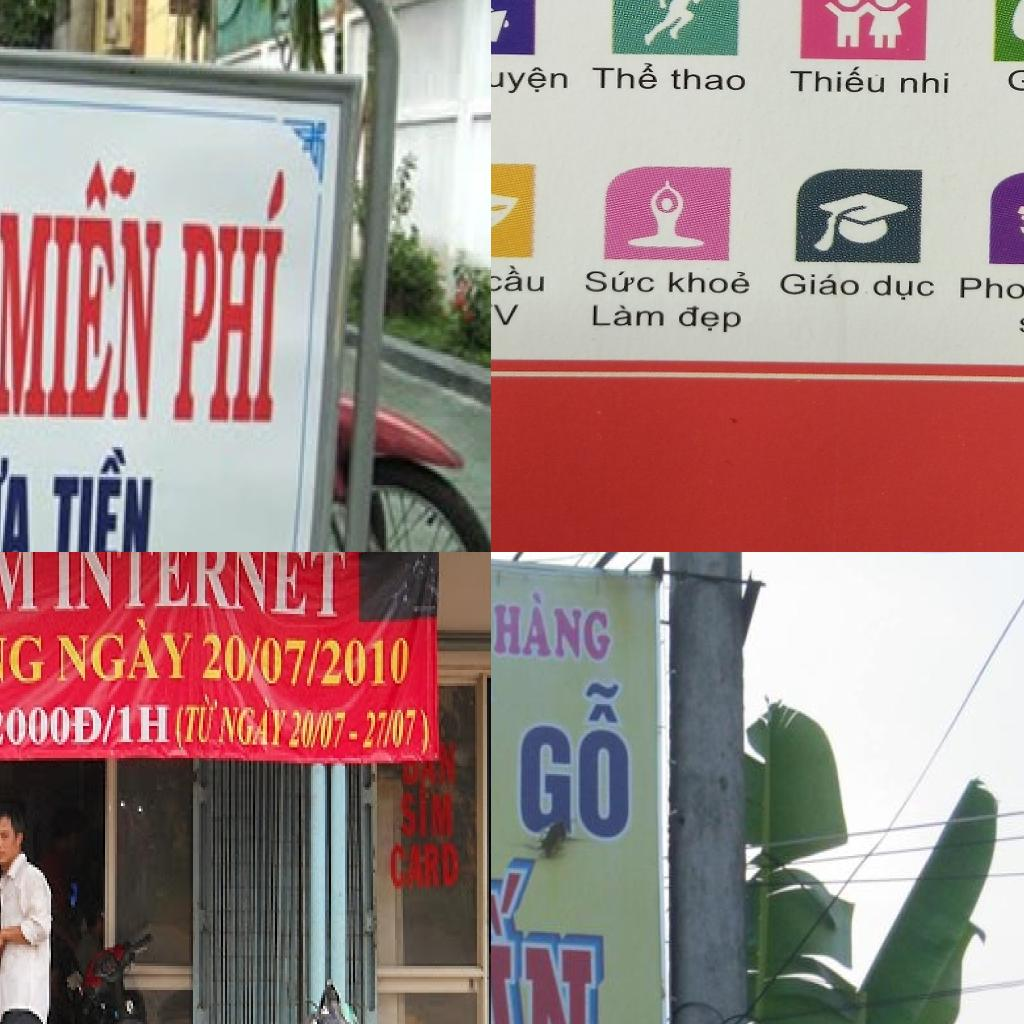text: (0, 147, 171, 430), (171, 161, 296, 431), (491, 852, 618, 1024), (53, 552, 349, 624), (516, 677, 636, 844), (201, 630, 411, 691), (48, 441, 160, 552), (491, 584, 613, 664), (55, 617, 199, 683), (0, 704, 107, 750), (786, 60, 893, 100), (217, 697, 293, 750), (359, 707, 431, 758), (772, 267, 866, 306), (389, 844, 463, 892), (0, 458, 35, 552), (670, 302, 757, 339), (491, 60, 573, 99), (399, 787, 457, 841), (664, 263, 756, 295), (287, 707, 351, 753), (175, 691, 221, 753), (953, 268, 1024, 308), (0, 552, 43, 616), (0, 630, 49, 686), (666, 65, 748, 98), (584, 58, 662, 91), (895, 67, 964, 102), (580, 267, 660, 297), (868, 272, 940, 304), (584, 301, 668, 328), (491, 263, 549, 296), (491, 300, 525, 339), (439, 740, 459, 788), (101, 705, 119, 747)
